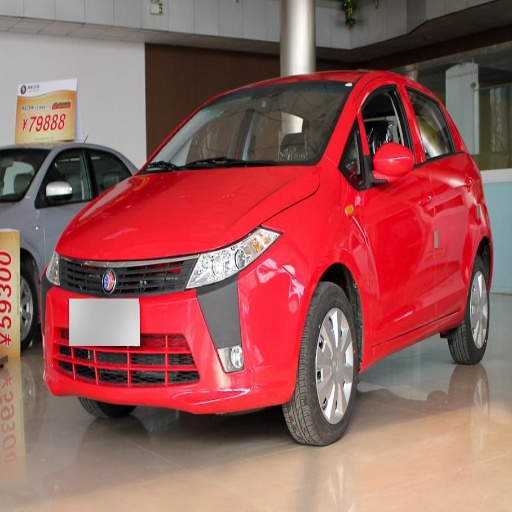front_bumper: (44, 253, 309, 412)
front_glass: (138, 82, 354, 173)
front_left_door: (355, 82, 436, 343)
